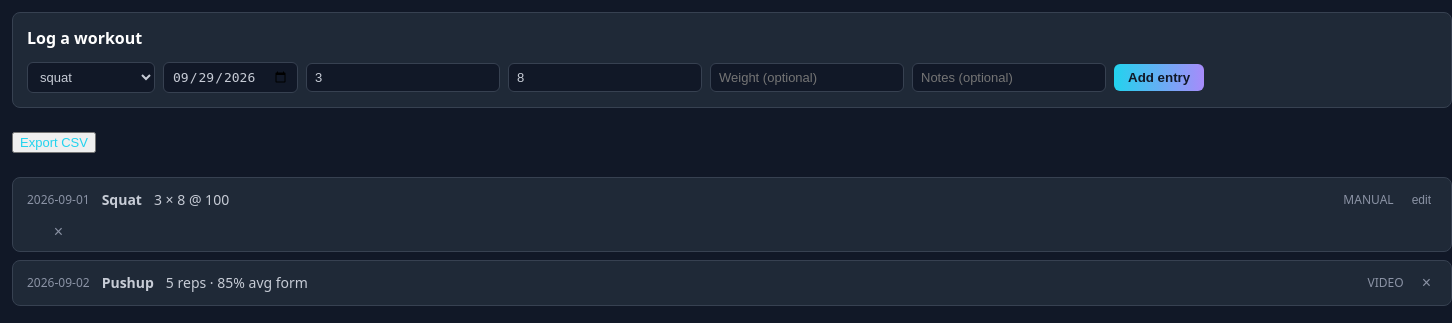
Test: HistoryView › shows an Edit button on manual entries, opens the form pre-filled, and applies the update on save
expect the text "3 × 8 @ 100" is shown: met, box [154, 190, 229, 209]
Click the button with aria-label "Edit entry from 2026-09-01". click: (1421, 200)
box: [1406, 192, 1437, 208]
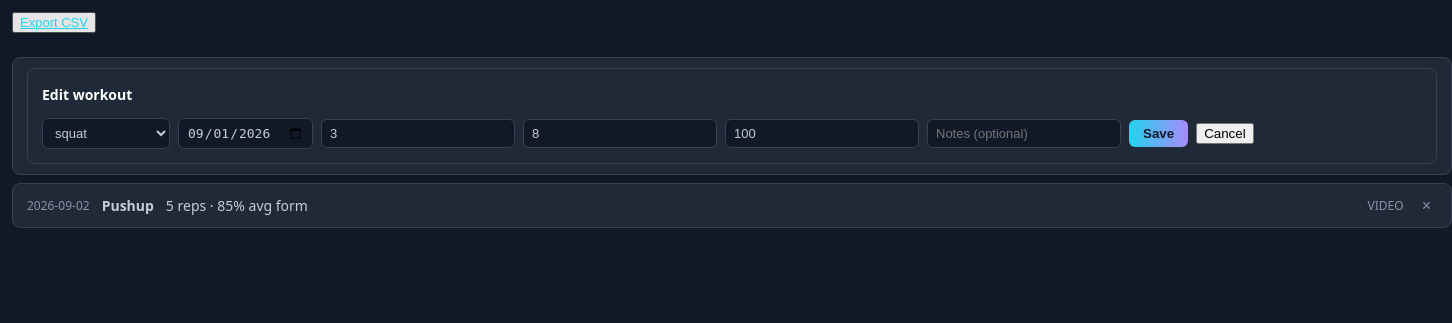
Replace the text in the number field named "Sets" with "6". click: (418, 134)
box: [321, 119, 515, 148]
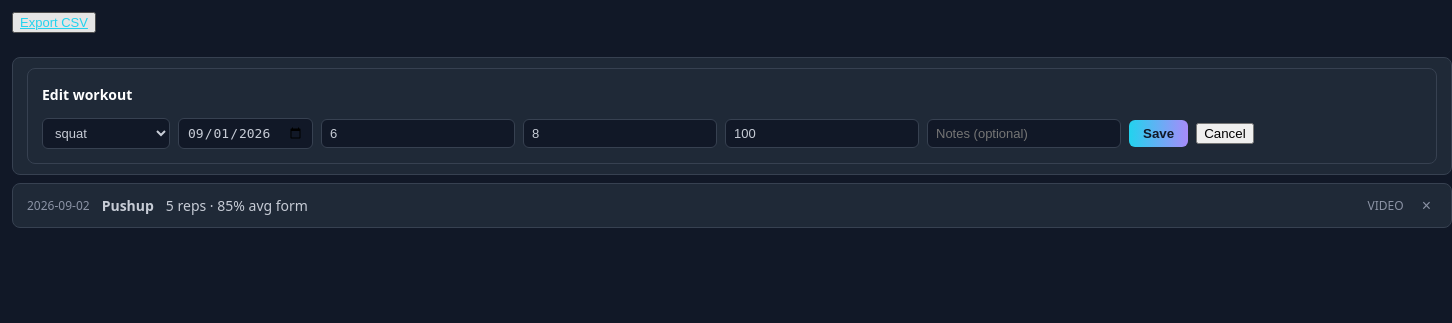
Click the button "Save". click: (1159, 134)
box: [1129, 120, 1188, 147]
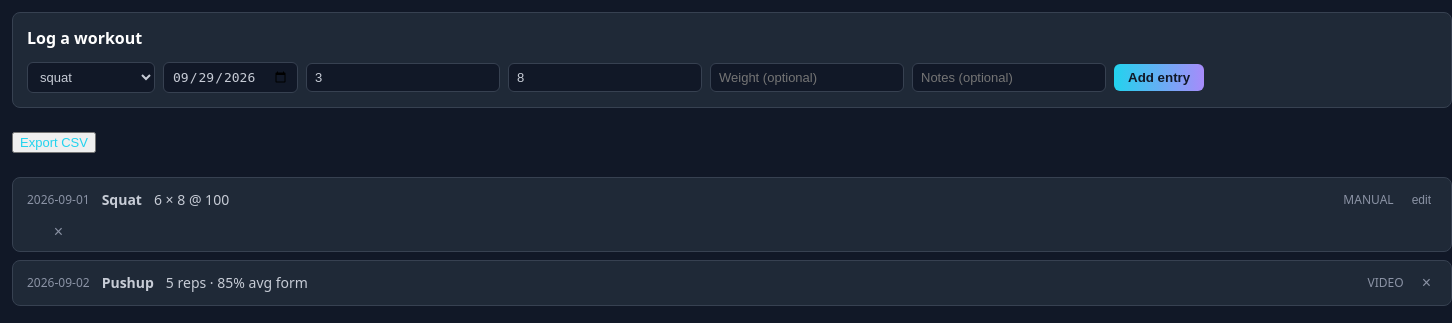
expect the text "6 × 8 @ 100" is shown: met, box [154, 190, 229, 209]
